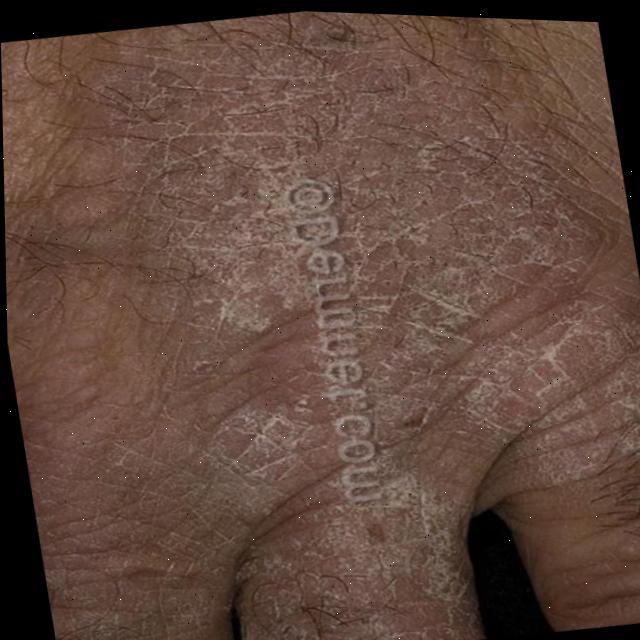Eczema: (93, 3, 640, 640)
